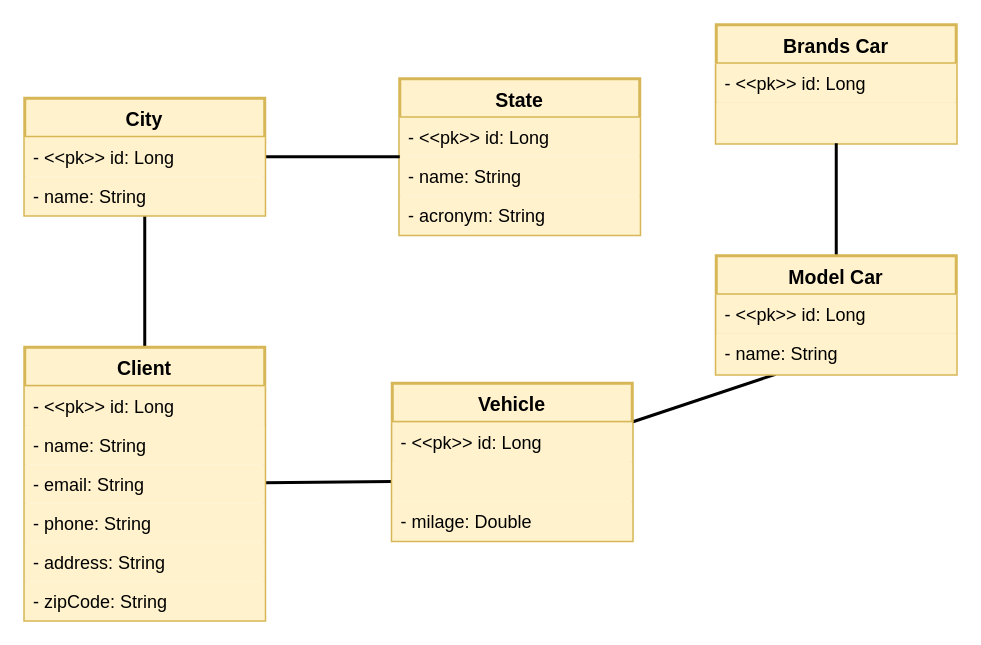
The diagram is 981 pixels wide and 645 high, and some of its shapes have lost their labels. The centre of each missing label's shape, as x and y in pixels:
"- lisencePlate : String" goes at pixel 512 480.
"- name : String:" goes at pixel 836 122.
